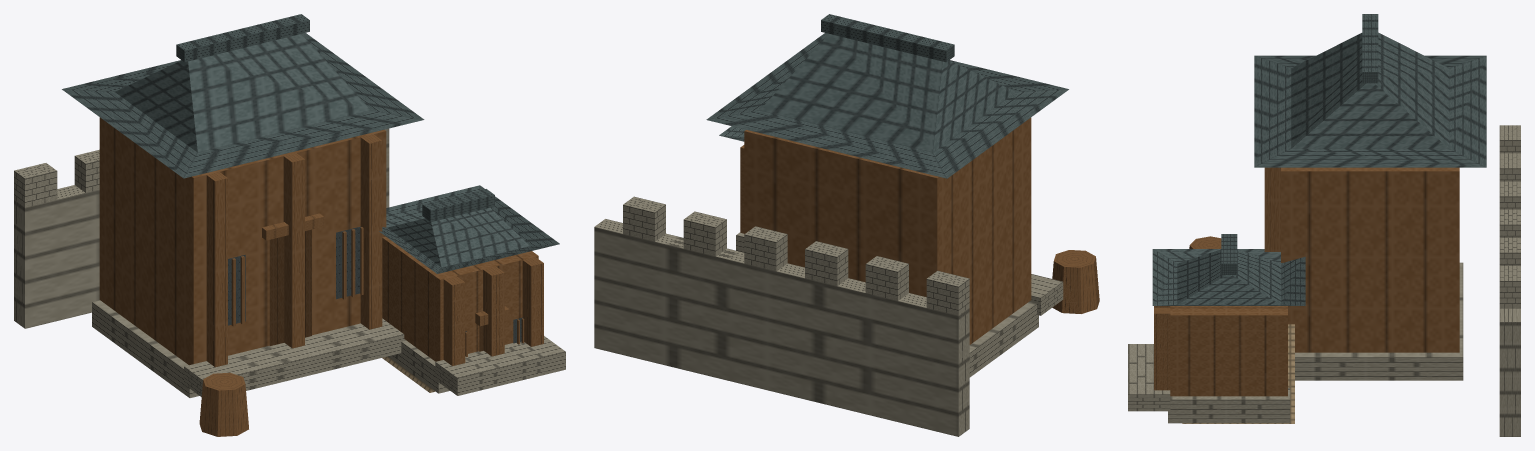
File: domestic-BARRACKS-3-lod0.glb
3 renders of one model, left to right at view 1: azimuth 30°, elevation 25°; view 2: azimuth 150°, elevation 25°; view 3: azimuth 270°, elevation 25°, orthographic. The views are drawn at different scales.
Size of the model in its own units: 0.85 by 0.691 by 0.835.
Materials: 1 (1 with a texture image).
